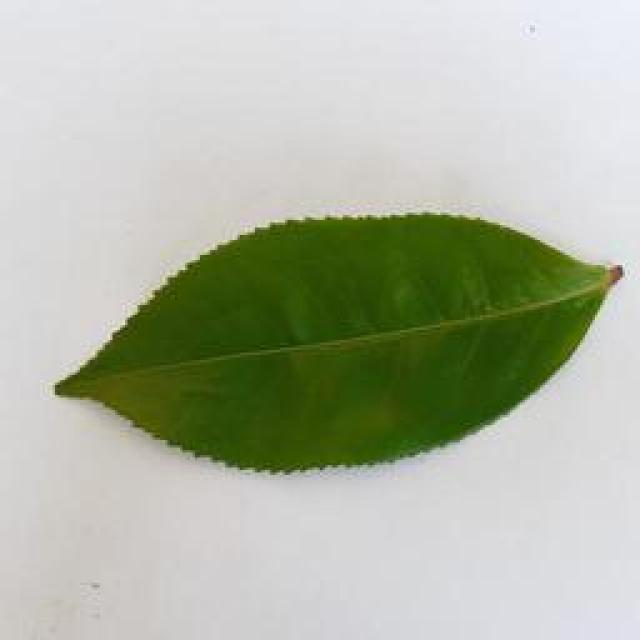Healthy: (45, 200, 630, 482)
